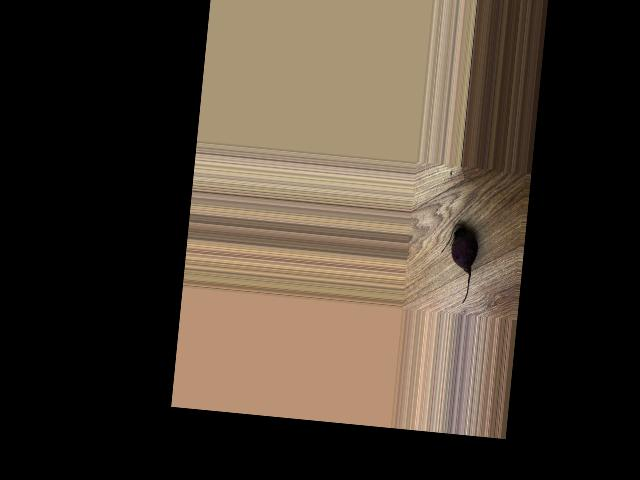beet: (437, 222, 480, 305)
